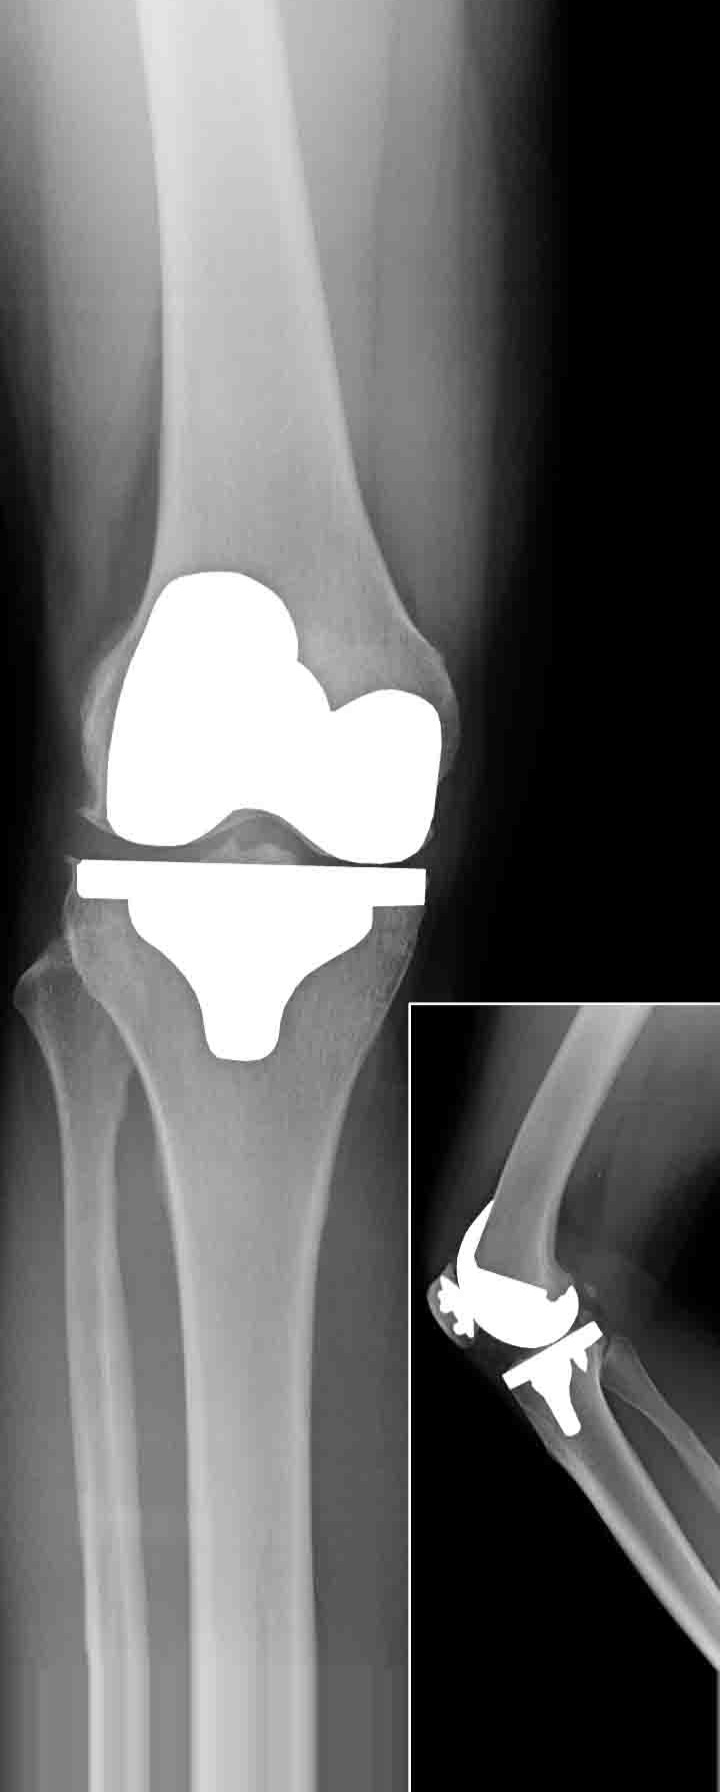Knee-TriathlonTritanium-Stryker: (78, 571, 446, 1081), (433, 1200, 609, 1442)
